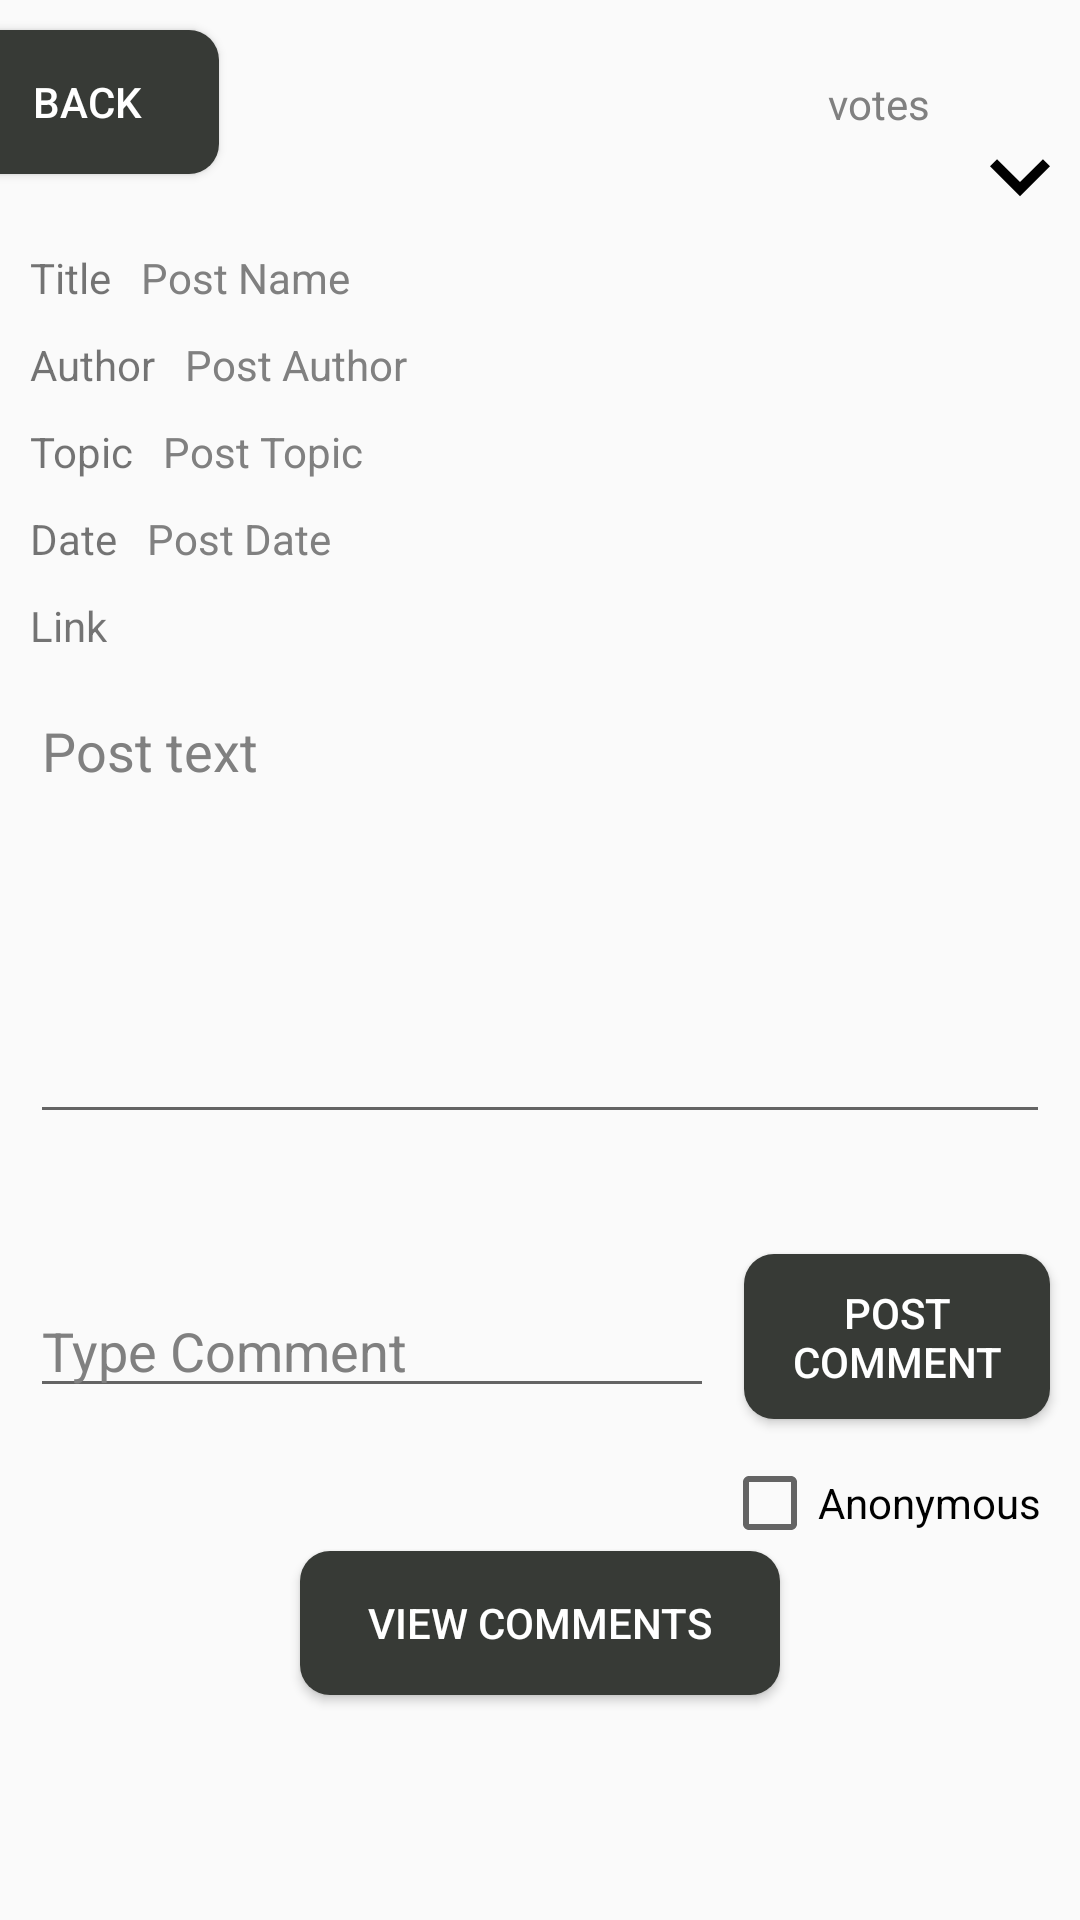

Screen size 1080*1920. Icon name, then its box in pixels as (x1, y1, x2, y2):
keyboard arrow down: (990, 159, 1050, 196)
